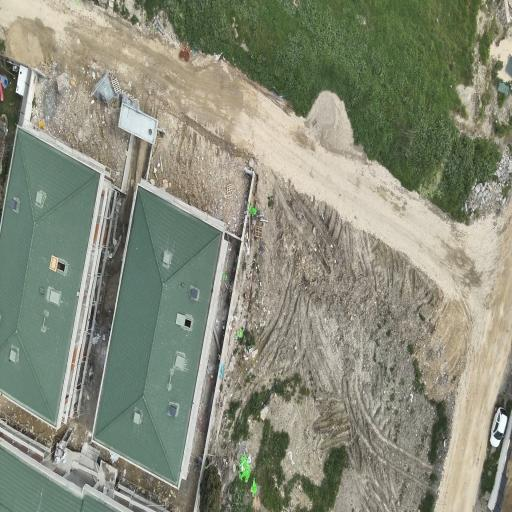car: (490, 407, 507, 446)
